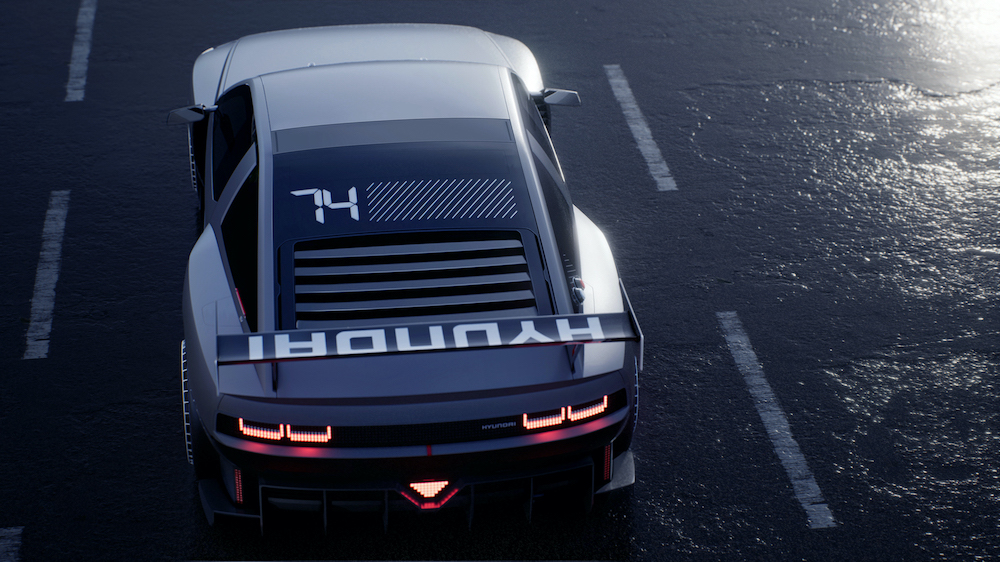car: (168, 17, 651, 544)
